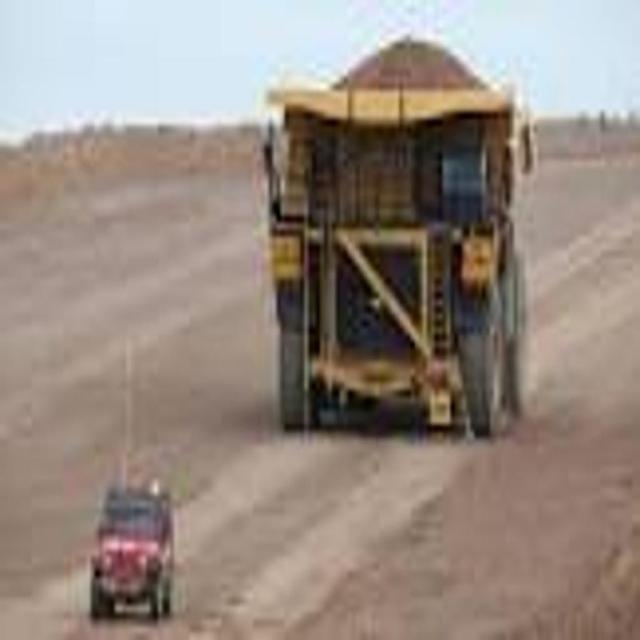dump_truck: (266, 22, 540, 486)
